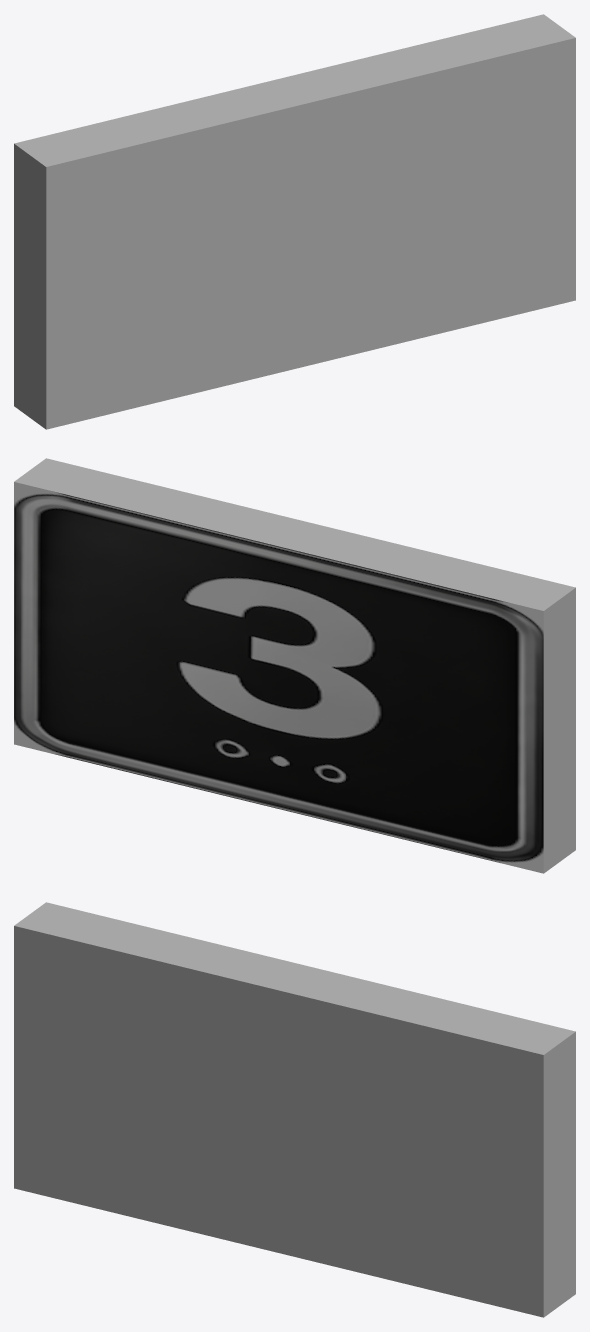
The model's file is 3_button.dae.
The picture shows the model from 3 angles, top to bottom: view 1: azimuth 30°, elevation 25°; view 2: azimuth 150°, elevation 25°; view 3: azimuth 330°, elevation 25°; orthographic projection.
Visible parts, largest first — view 1: Cube_003; view 2: Cube_003; view 3: Cube_003.
Part boxes in pixels (bbox=[...]): Cube_003: bbox=[14, 14, 575, 429]; Cube_003: bbox=[14, 458, 575, 873]; Cube_003: bbox=[14, 902, 575, 1317].
Size of the model in its own units: 0.19 by 0.02 by 0.09.
Materials: 2 (1 with a texture image).
